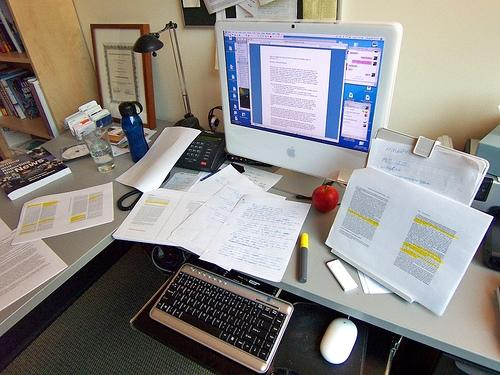apple: (312, 185, 339, 213)
